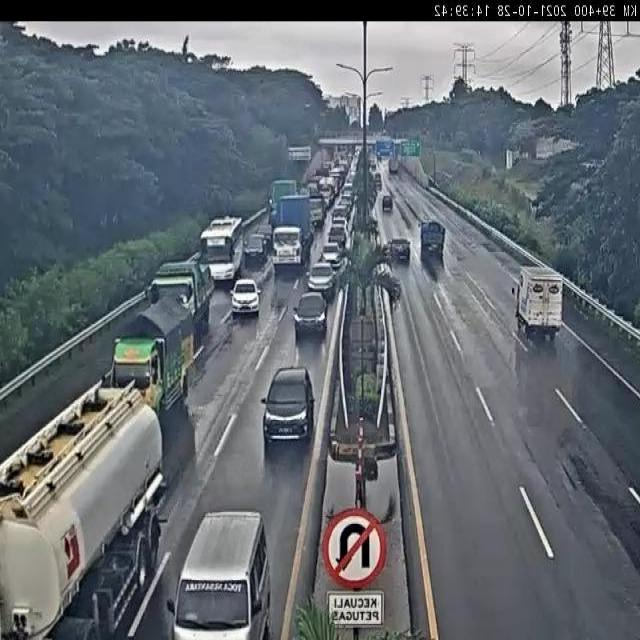Bus: (200, 217, 247, 283)
Car: (262, 358, 312, 470), (290, 289, 328, 348), (229, 276, 262, 322), (307, 261, 333, 298), (243, 232, 266, 262), (388, 237, 413, 264), (328, 218, 352, 246), (319, 246, 343, 267), (382, 193, 392, 215)
Truck: (0, 394, 170, 635), (105, 306, 194, 411), (513, 263, 566, 344), (140, 267, 214, 320), (273, 196, 312, 266), (416, 216, 446, 258)
Van: (168, 505, 273, 640)
